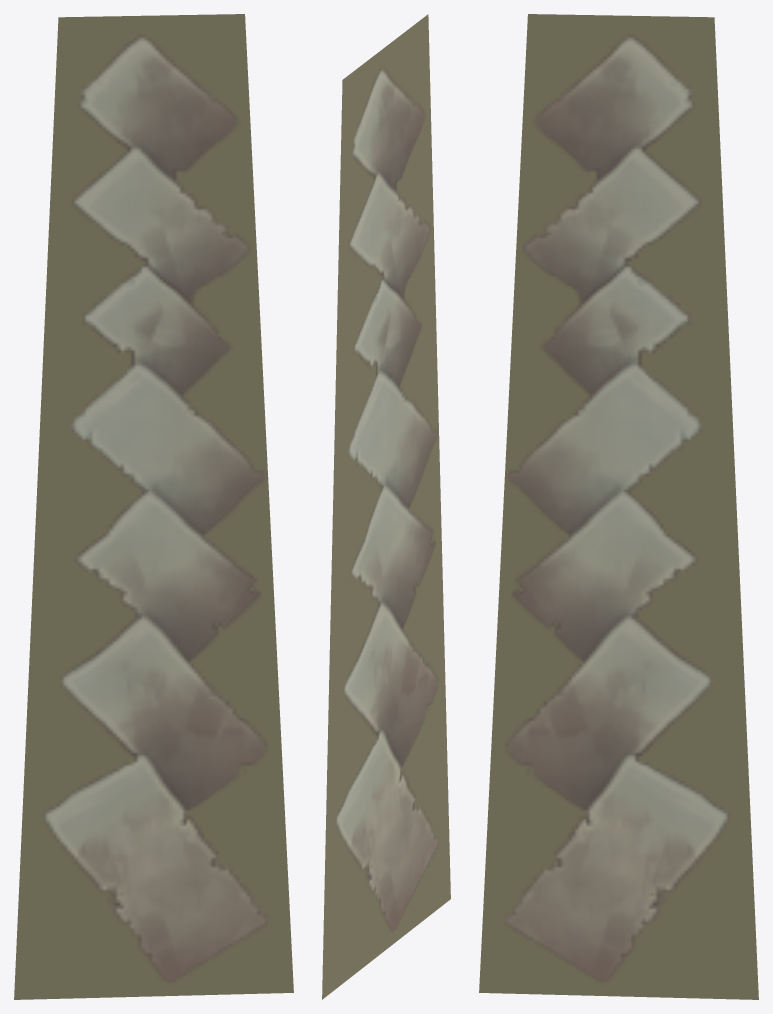
Rendered from SM_Torii_gate_ornament_shide_1.fbx.
3 renders of one model, left to right at view 1: azimuth 90°, elevation 25°; view 2: azimuth 150°, elevation 25°; view 3: azimuth 270°, elevation 25°, orthographic. The views are drawn at different scales.
Visible parts, largest first — view 1: SM_Torii_gate_ornament_shide_1_LOD0; view 2: SM_Torii_gate_ornament_shide_1_LOD0; view 3: SM_Torii_gate_ornament_shide_1_LOD0.
Boxes of the visible parts, x1=… form: SM_Torii_gate_ornament_shide_1_LOD0: x1=14, y1=14, x2=293, y2=999; SM_Torii_gate_ornament_shide_1_LOD0: x1=322, y1=14, x2=450, y2=999; SM_Torii_gate_ornament_shide_1_LOD0: x1=479, y1=14, x2=758, y2=999.
Bounding box in the file's own units: 8.04e-06 × 15.6 × 60.62.
